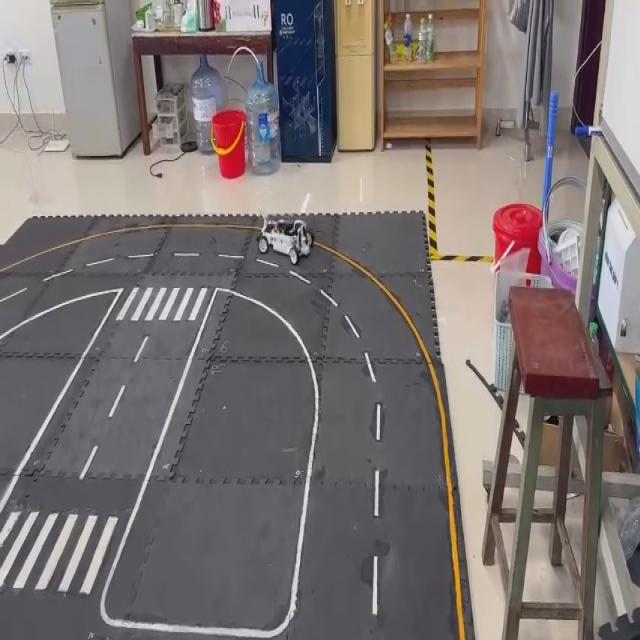SiCo-CAR: (256, 212, 314, 265)
